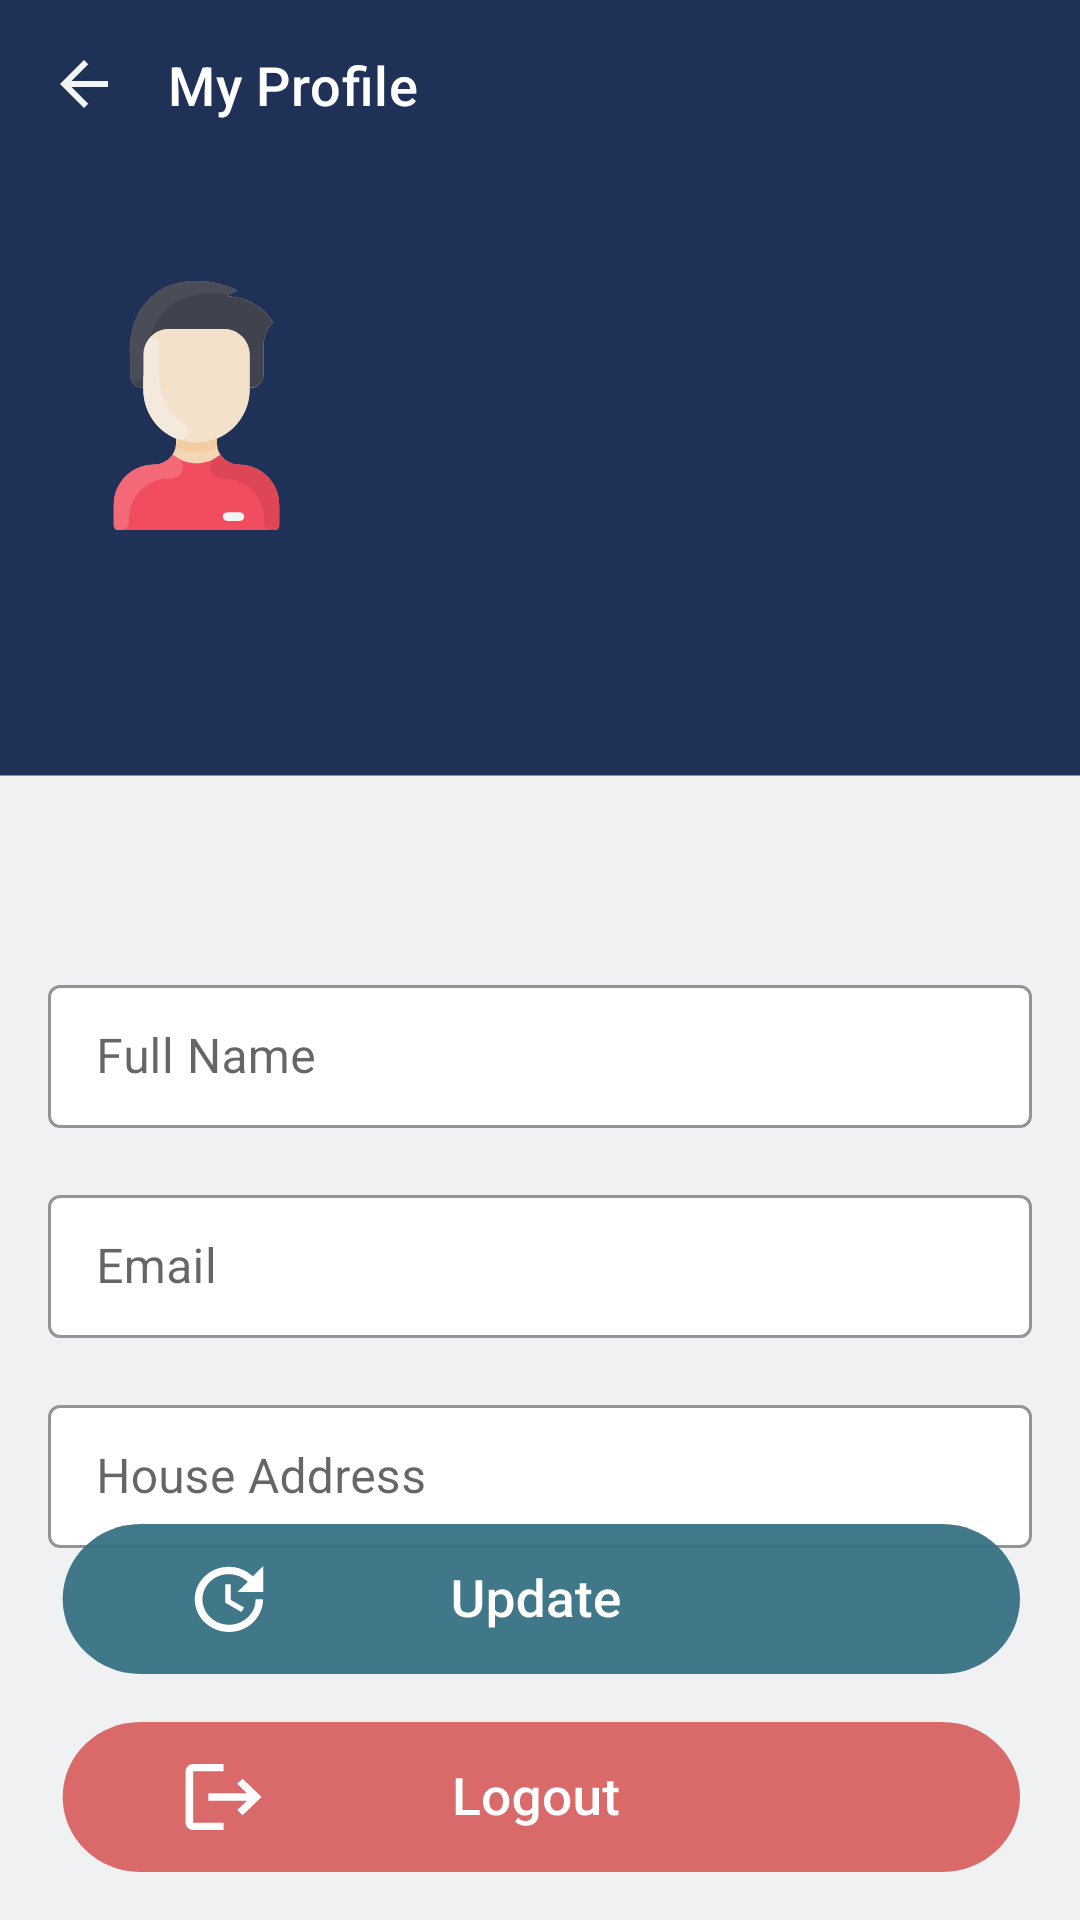

Icons on this 1080×1920 Android screen, each with its box as bbox=[x1, y1, x2, y2]:
arrow back: bbox=[60, 60, 108, 108]
man: bbox=[113, 281, 280, 530]
